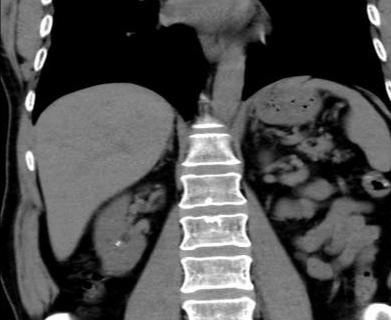Tas_Var: (110, 218, 116, 222), (114, 240, 121, 243), (114, 242, 118, 246)
